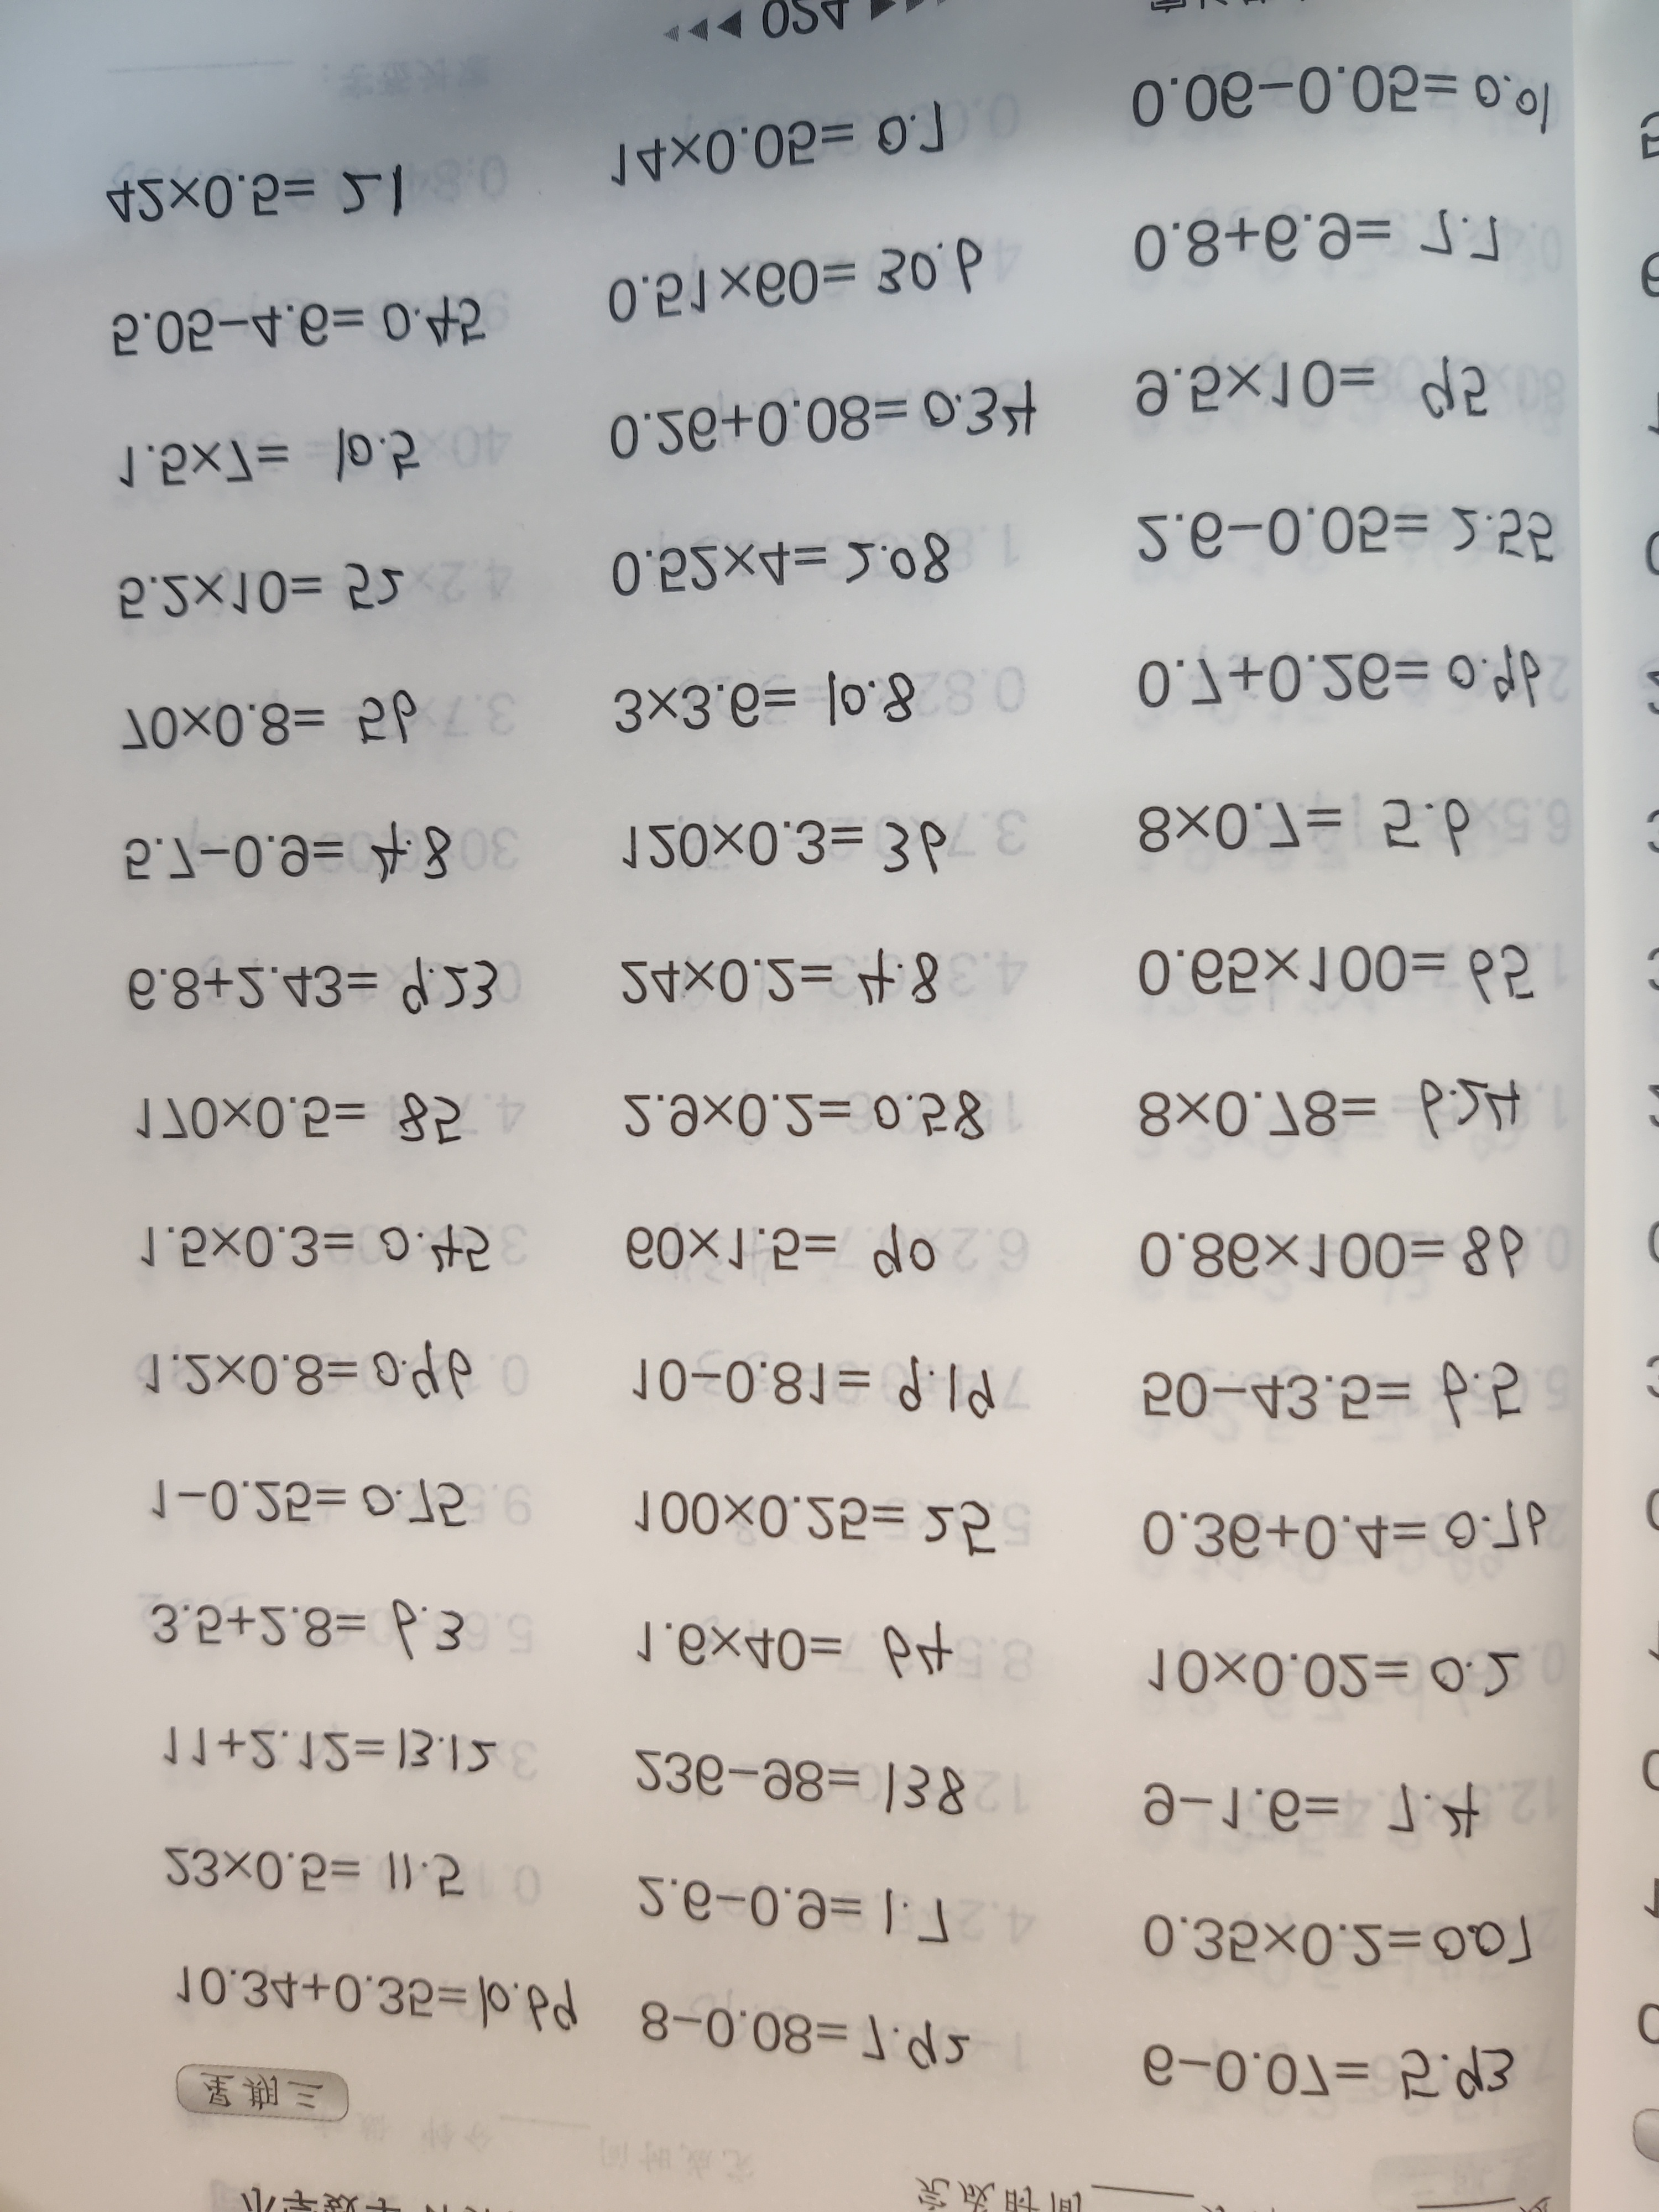equation: (591, 355, 1040, 482), (1117, 38, 1563, 157), (1119, 486, 1572, 592), (1105, 195, 1542, 301), (1119, 620, 1547, 728), (599, 80, 974, 202), (1117, 1341, 1547, 1446), (1129, 2012, 1523, 2125), (587, 232, 999, 340), (105, 266, 498, 378), (1131, 1484, 1551, 1587), (598, 523, 979, 632), (1124, 327, 1509, 435), (1122, 921, 1544, 1019), (1124, 1205, 1544, 1303), (1129, 1061, 1530, 1158), (112, 798, 455, 909), (160, 1952, 587, 2041), (117, 935, 516, 1029), (1134, 1630, 1530, 1724), (91, 138, 434, 246), (617, 1730, 1002, 1825), (599, 1075, 999, 1167), (606, 1477, 1006, 1566), (605, 794, 955, 895), (117, 1069, 472, 1169), (599, 651, 929, 758), (1126, 1895, 1551, 1977), (606, 928, 948, 1028), (131, 1575, 481, 1670), (1114, 779, 1497, 866), (94, 418, 434, 516), (615, 1338, 1002, 1423), (626, 1857, 962, 1954), (633, 1996, 967, 2094), (101, 664, 422, 765), (617, 1597, 971, 1686), (150, 1712, 505, 1799), (594, 1209, 967, 1291), (124, 1212, 502, 1291), (120, 1329, 479, 1411), (132, 1460, 486, 1541), (1134, 1771, 1486, 1853), (110, 550, 415, 634), (155, 1838, 477, 1907)
